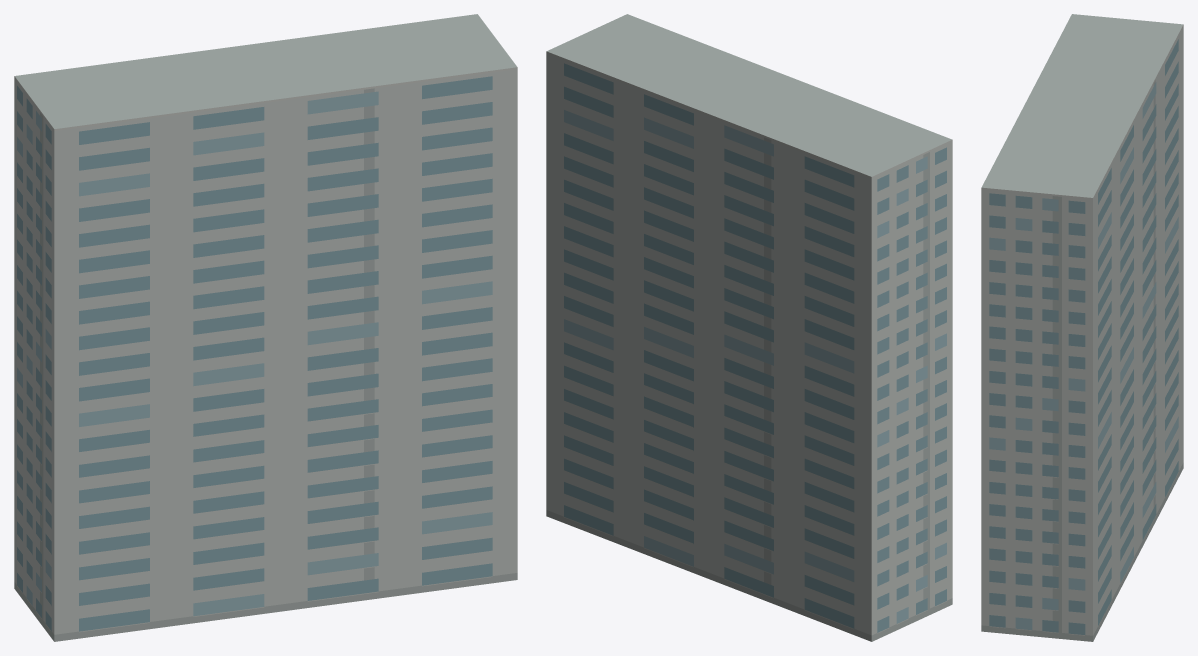
Rendered from residential-9ce28ab3-bafd-4b46-97b9-d4202a3896b9.glb.
3 renders of one model, left to right at view 1: azimuth 30°, elevation 25°; view 2: azimuth 150°, elevation 25°; view 3: azimuth 270°, elevation 25°, orthographic. The views are drawn at different scales.
Visible parts, largest first — view 1: residential-9ce28ab3-bafd-4b46-97b9-d4202a3896b9.tmp; view 2: residential-9ce28ab3-bafd-4b46-97b9-d4202a3896b9.tmp; view 3: residential-9ce28ab3-bafd-4b46-97b9-d4202a3896b9.tmp.
Boxes of the visible parts, x1,y1,x2,y2 form: residential-9ce28ab3-bafd-4b46-97b9-d4202a3896b9.tmp: (14, 14, 517, 641); residential-9ce28ab3-bafd-4b46-97b9-d4202a3896b9.tmp: (546, 14, 952, 641); residential-9ce28ab3-bafd-4b46-97b9-d4202a3896b9.tmp: (981, 14, 1183, 641).
Size of the model in its own units: 55.12 by 62 by 25.59.
